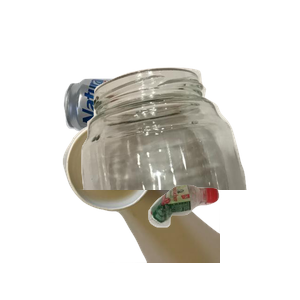glass: (74, 65, 300, 245)
metal: (61, 75, 231, 202)
plastic: (146, 182, 300, 300)
trash: (60, 120, 300, 300)
